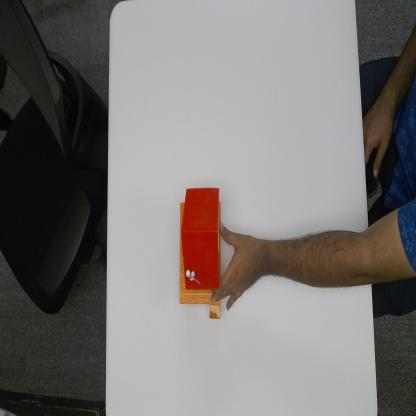Arm: (263, 230, 369, 291)
Hand: (219, 220, 264, 313)
House: (179, 187, 221, 321)
